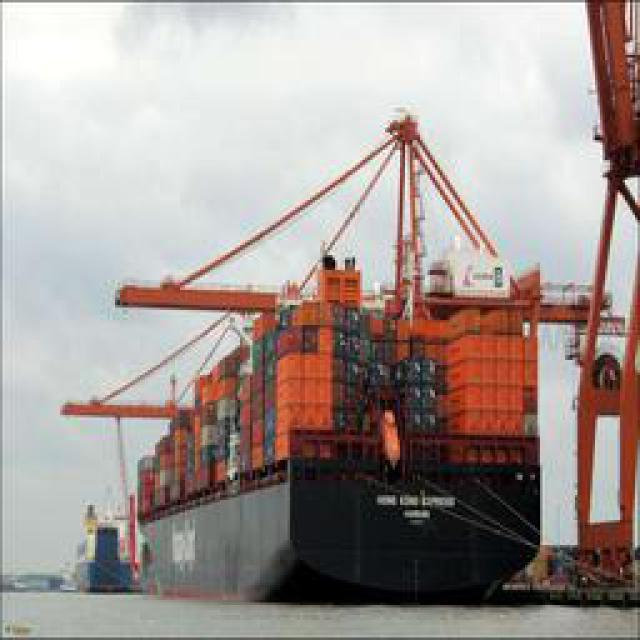Ship: (90, 60, 598, 598)
